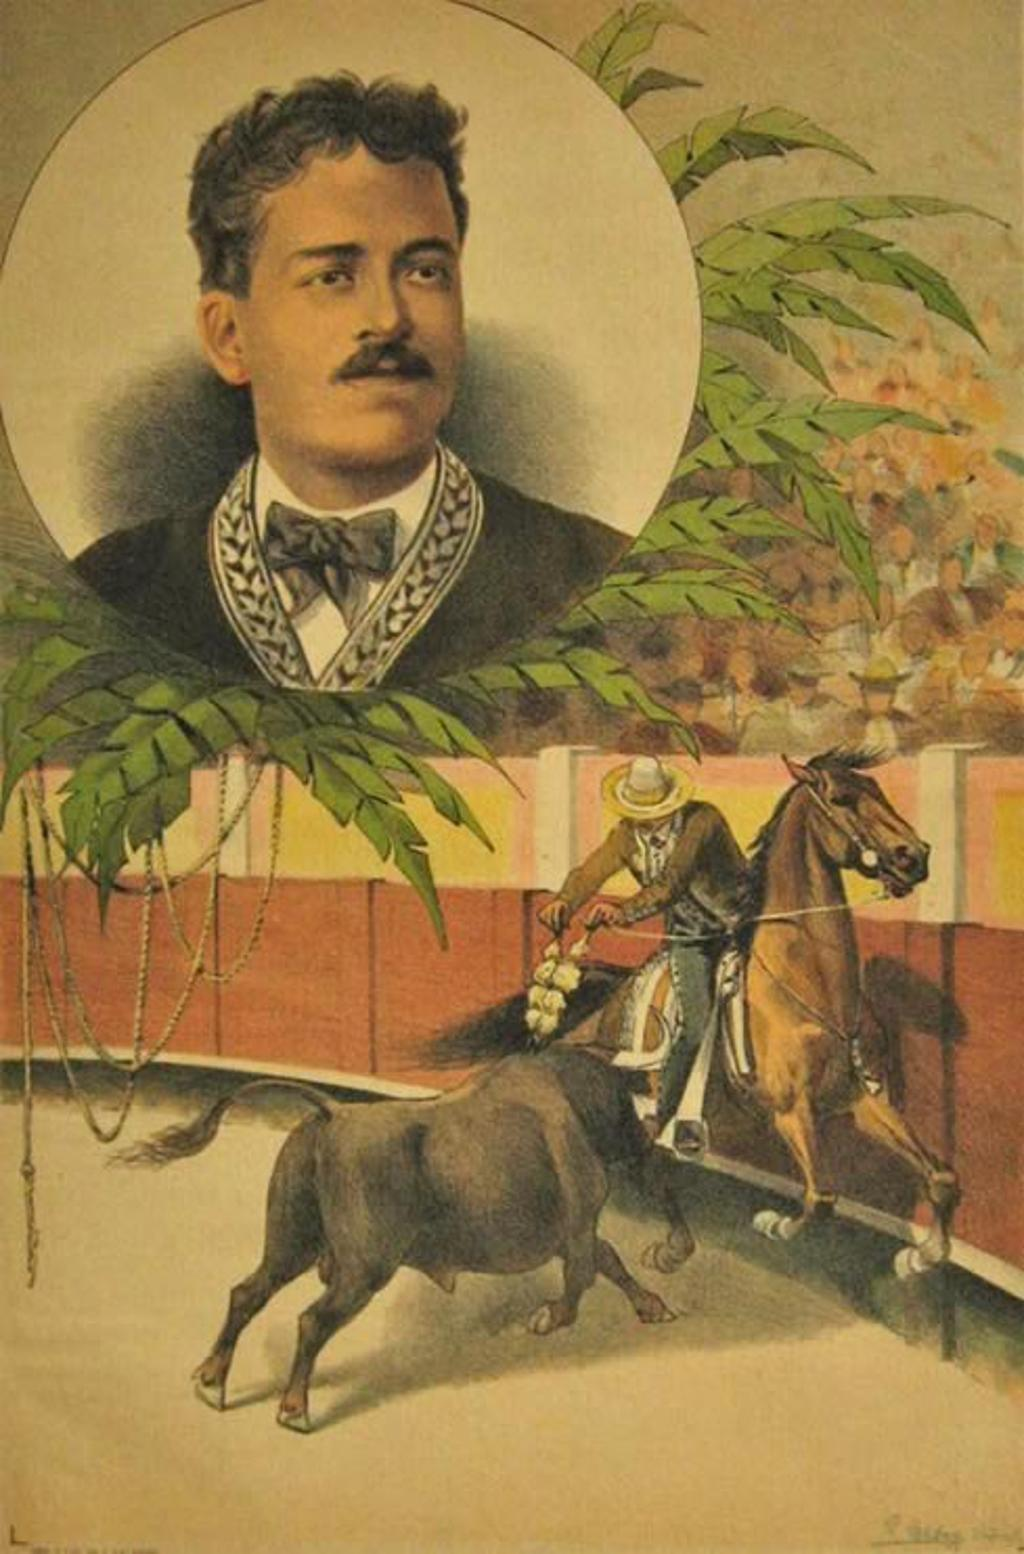face: (246, 143, 459, 465)
